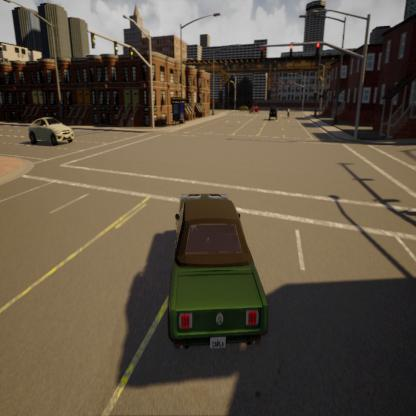Cars: (168, 191, 269, 361), (26, 112, 75, 146), (269, 105, 279, 122), (248, 104, 259, 116), (287, 105, 290, 118)
